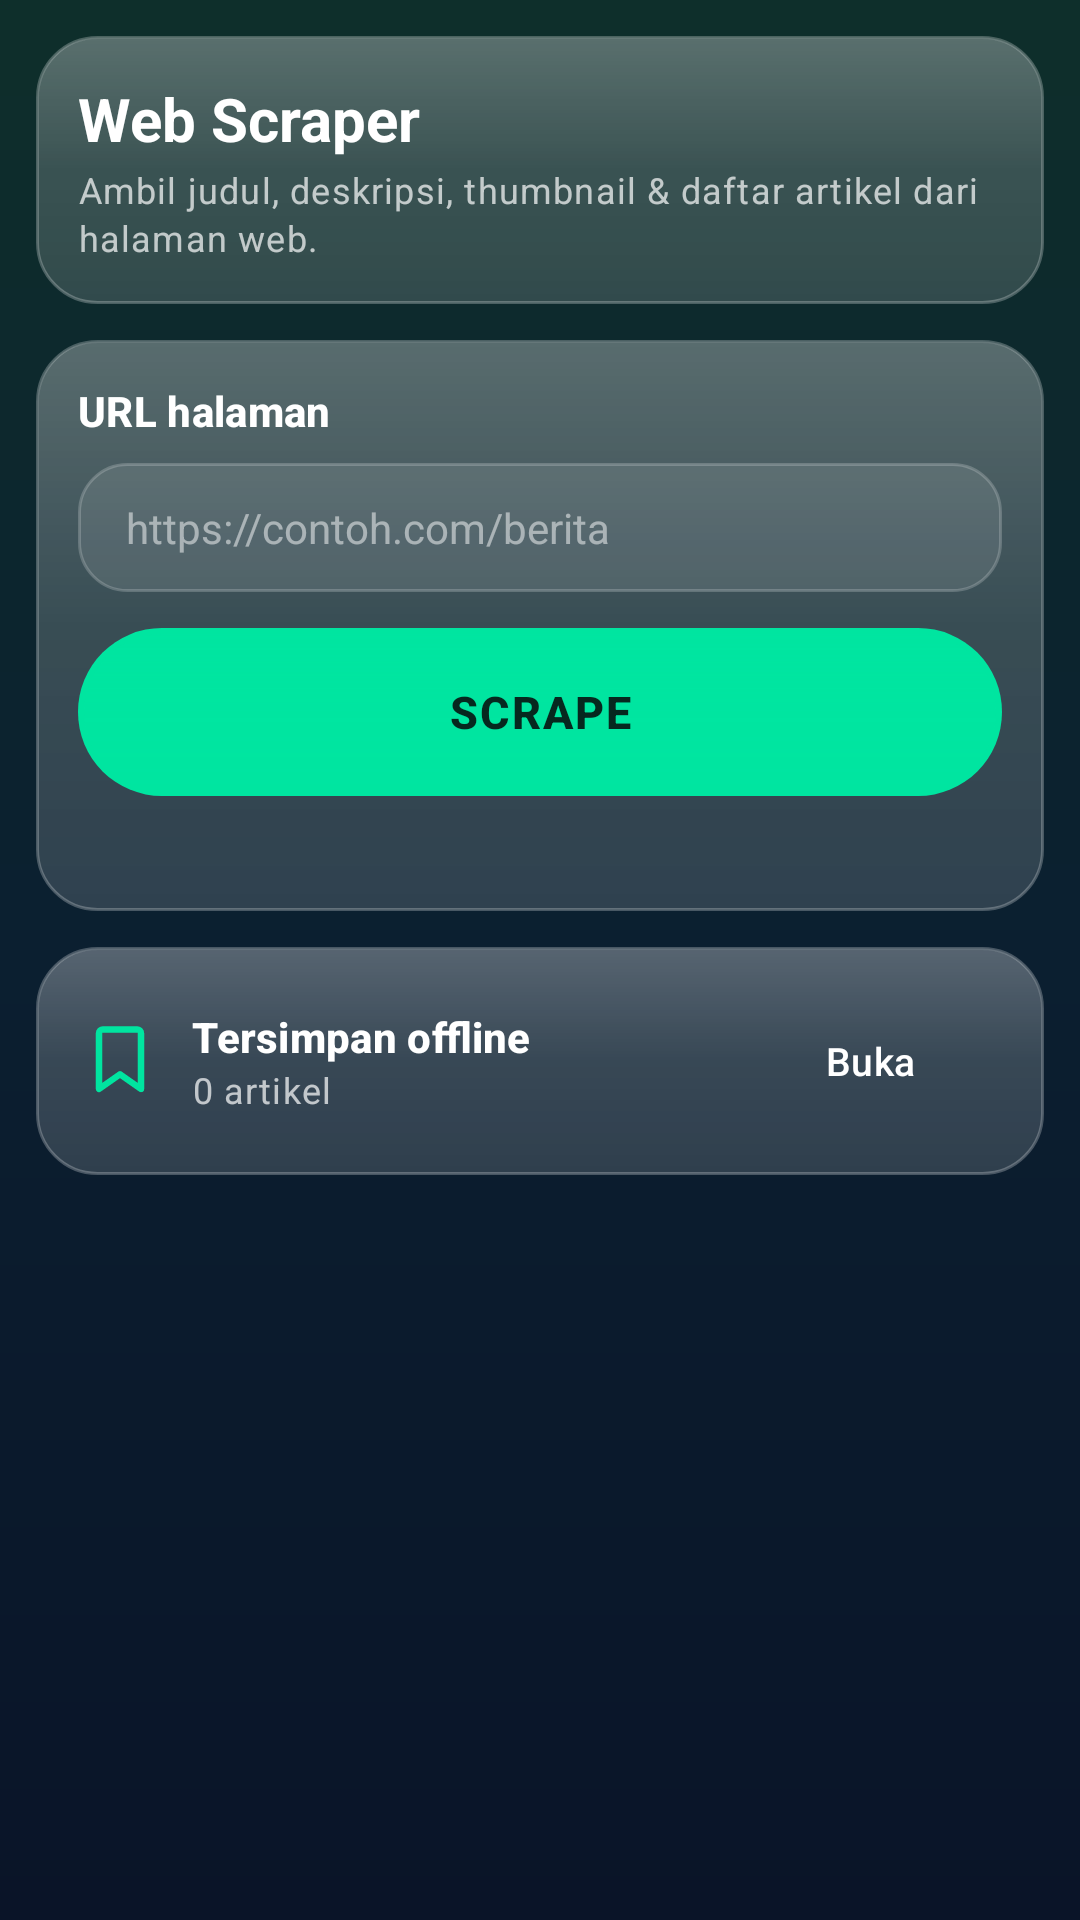

Screen size 1080w x 1920h. Icon name, then its center in pixels as [x,y]:
tool bookmark: [120,1059]
